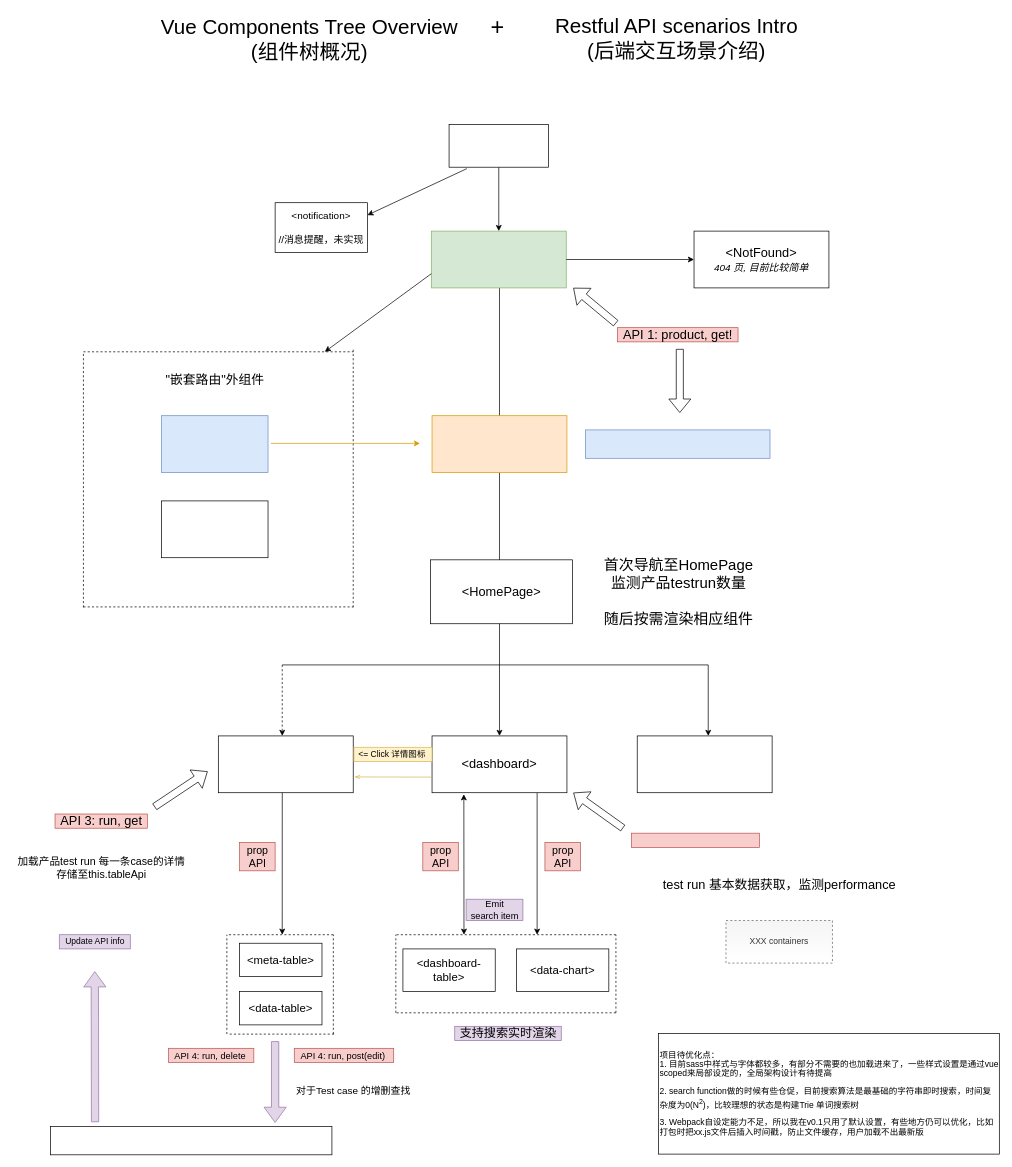
Image size: 1012x1167. Some labels were removed from this diagram. Each missing label, with the box of its shape:
<calendar> // v2.0: (637, 735, 772, 793)
<content-footer>: (161, 500, 268, 558)
<content> 导航入口 <router-view>: (431, 415, 567, 473)
<SampleLayout> 根目录重定向 path / => /testRuns: (431, 230, 566, 288)
<sidebar> 全局组件：导航栏 路由状态管理: (161, 415, 268, 473)
<test-details>: (218, 735, 353, 793)
API 2: summary, get: (631, 832, 759, 847)
backend: (50, 1126, 332, 1155)
El: 项目根挂载点: (448, 124, 548, 167)
init了一个全局对象products来保存 产品数组，在sidebar子产品栏中渲染: (585, 429, 770, 458)
